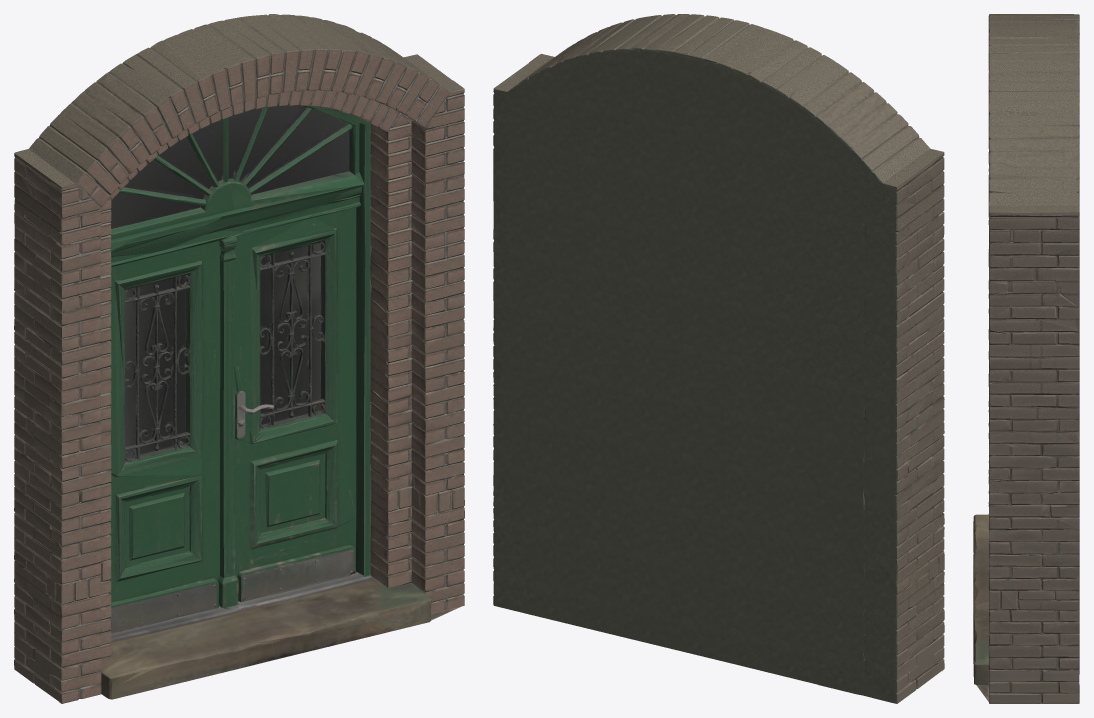
The model's file is familok_street_door.glb.
3 renders of one model, left to right at view 1: azimuth 30°, elevation 25°; view 2: azimuth 150°, elevation 25°; view 3: azimuth 270°, elevation 25°, orthographic. The views are drawn at different scales.
Bounding box in the file's own units: 1.34 × 1.9 × 0.3227.
Materials: 1 (1 with a texture image).
